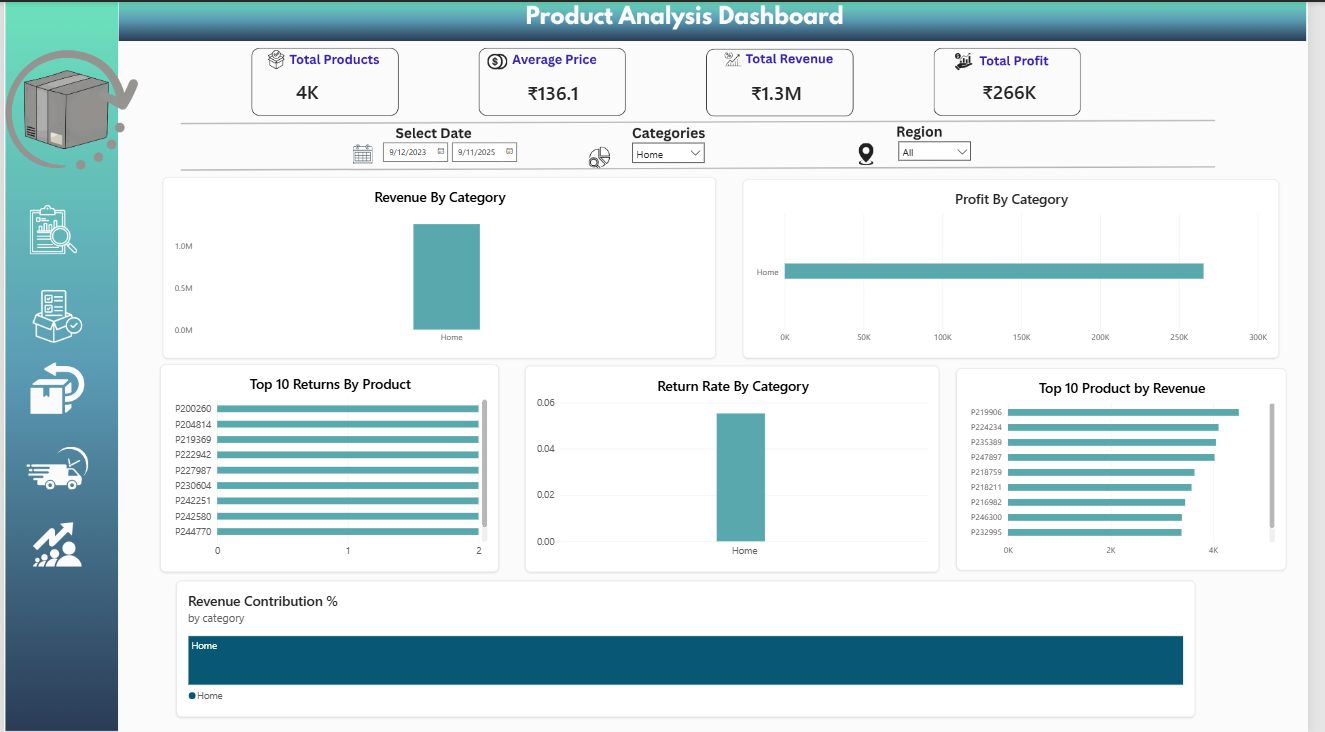

This screenshot's page, from the dashboard's own definition file:
{"tool":"powerbi","page":{"name":"Product Analysis","canvas":[1920,1080],"ordinal":2},"visuals":[{"type":"cardVisual","fields":{"Data":["products.Total Products"]},"box":[417.8,106.7,77.3,46],"z":0},{"type":"cardVisual","fields":{"Data":["orders.Avg Product Price"]},"box":[758.3,108.6,117.8,46],"z":1},{"type":"cardVisual","fields":{"Data":["orders.Total Revenue"]},"box":[1087.7,108.6,116,46],"z":2},{"type":"cardVisual","fields":{"Data":["orders.Total Profit"]},"box":[1428.2,106.7,108.6,46],"z":3},{"type":"slicer","fields":{"Values":["Date_Table.Date"]},"box":[550.3,202.5,208,42.3],"z":4},{"type":"slicer","fields":{"Values":["products.category"]},"box":[920.3,202.5,116,38.7],"z":5},{"type":"slicer","fields":{"Values":["customers.region"]},"box":[1312.3,200.6,116,40.5],"z":6},{"type":"clusteredColumnChart","title":"Revenue By Category","fields":{"Category":["products.category"],"Y":["orders.Total Revenue"]},"box":[233.7,257.7,814.2,266.9],"z":7},{"type":"clusteredBarChart","title":" Profit By Category","fields":{"Category":["products.category"],"Y":["orders.Total Profit"]},"box":[1087.7,261.4,789.6,263.2],"z":8},{"type":"clusteredBarChart","title":"Top 10 Product by Revenue ","fields":{"Category":["orders.product_id"],"Y":["orders.Total Revenue"]},"box":[1402.5,539.3,485.9,297.8],"z":9},{"type":"clusteredBarChart","title":"Top 10 Returns By Product","fields":{"Category":["products.product_id"],"Y":["returns.Returned Orders"]},"box":[230.1,533.7,498.8,305.5],"z":10},{"type":"clusteredColumnChart","title":"Return Rate By Category","fields":{"Category":["products.category"],"Y":["returns.Return Rate"]},"box":[767.5,535.6,609.9,303.7],"z":11},{"type":"treemap","fields":{"Group":["products.category"],"Values":["orders.Revenue Contribution %"]},"box":[254,851.8,1500,201],"z":12}]}

Visuals, with their boxes on the page's 1920x1080 design canvas (x1, y1, x2, y2). These are canvas units, not pixel positions in the 1325x732 screenshot, which may show the page scaled, cropped or inside an application window:
cardVisual - products.Total Products: bbox=(418, 107, 495, 153)
cardVisual - orders.Avg Product Price: bbox=(758, 109, 876, 155)
cardVisual - orders.Total Revenue: bbox=(1088, 109, 1204, 155)
cardVisual - orders.Total Profit: bbox=(1428, 107, 1537, 153)
slicer - Date_Table.Date: bbox=(550, 202, 758, 245)
slicer - products.category: bbox=(920, 202, 1036, 241)
slicer - customers.region: bbox=(1312, 201, 1428, 241)
"Revenue By Category" clusteredColumnChart: bbox=(234, 258, 1048, 525)
" Profit By Category" clusteredBarChart: bbox=(1088, 261, 1877, 525)
"Top 10 Product by Revenue " clusteredBarChart: bbox=(1402, 539, 1888, 837)
"Top 10 Returns By Product" clusteredBarChart: bbox=(230, 534, 729, 839)
"Return Rate By Category" clusteredColumnChart: bbox=(768, 536, 1377, 839)
treemap - products.category x orders.Revenue Contribution %: bbox=(254, 852, 1754, 1053)
